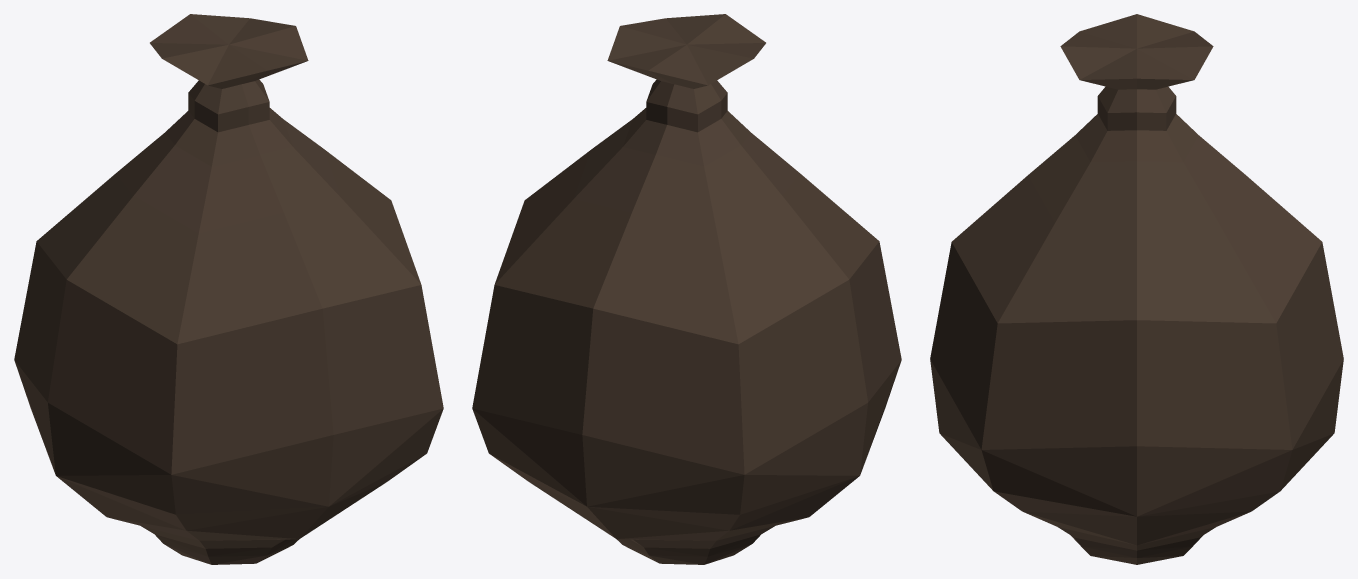
The model's file is sack.dae.
The picture shows the model from 3 angles, left to right: view 1: azimuth 30°, elevation 25°; view 2: azimuth 150°, elevation 25°; view 3: azimuth 270°, elevation 25°; orthographic projection.
Parts seen in each view (by area): view 1: Cube; view 2: Cube; view 3: Cube.
Boxes of the visible parts, box(x1,y1,x2,y2) form: Cube: box(14, 14, 443, 564); Cube: box(472, 14, 901, 564); Cube: box(930, 14, 1343, 564).
Bounding box in the file's own units: 2.3 × 2.3 × 3.11.
